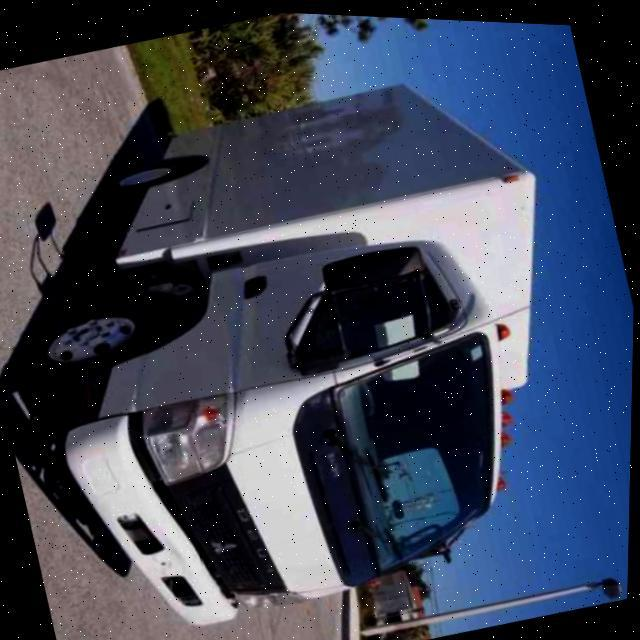truck: (0, 39, 630, 640)
